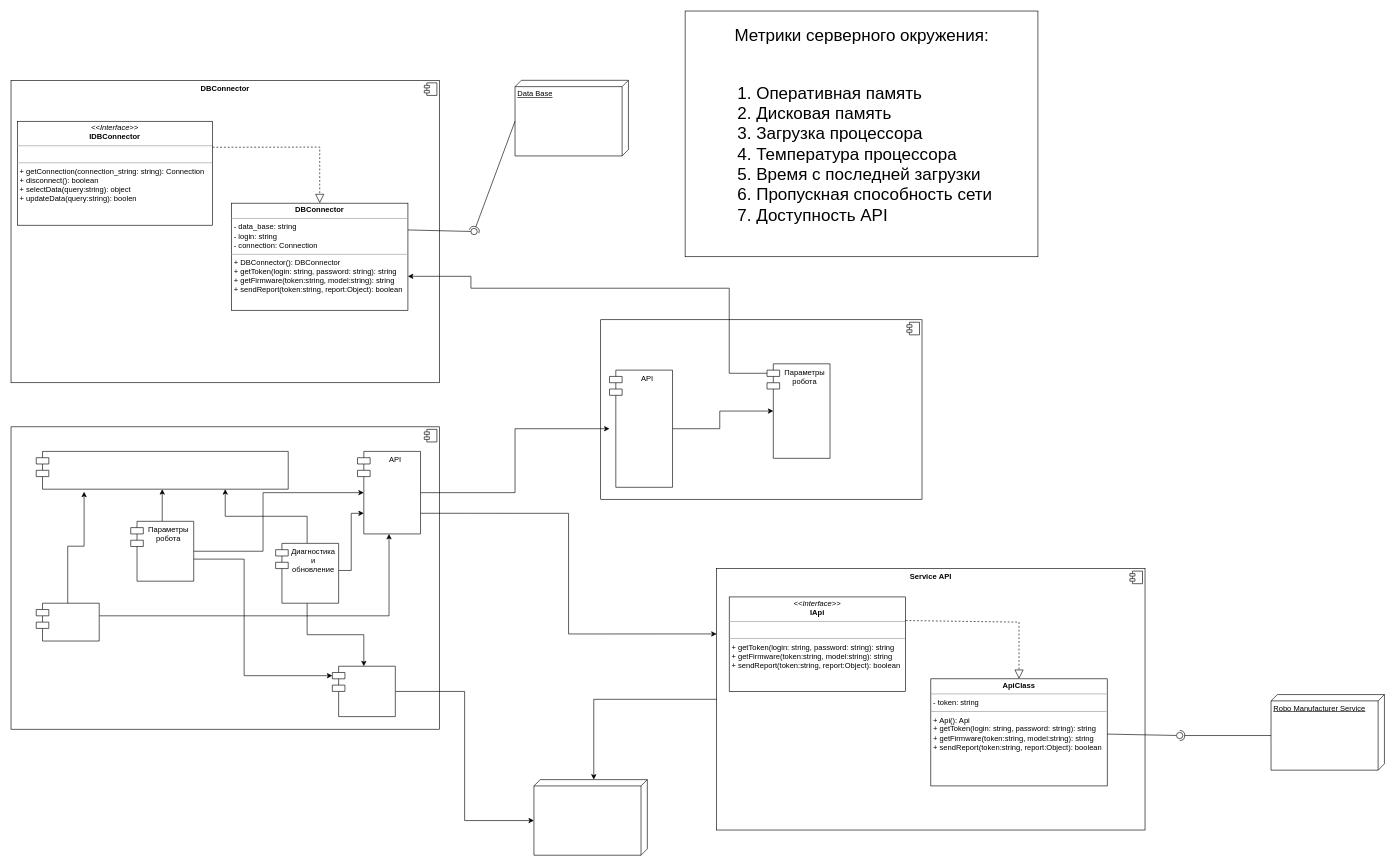
This 1395x866 diagram has some shape labels left out. Each missing label, with the box of its shape:
Backend: (600, 319, 922, 499)
Robo: (533, 779, 647, 855)
RoboApi: (332, 666, 395, 717)
RoboConfigurator: (10, 426, 439, 729)
Графический интерфейс: (36, 451, 288, 489)
Мониторинг состояния сервисов: (36, 603, 99, 641)
